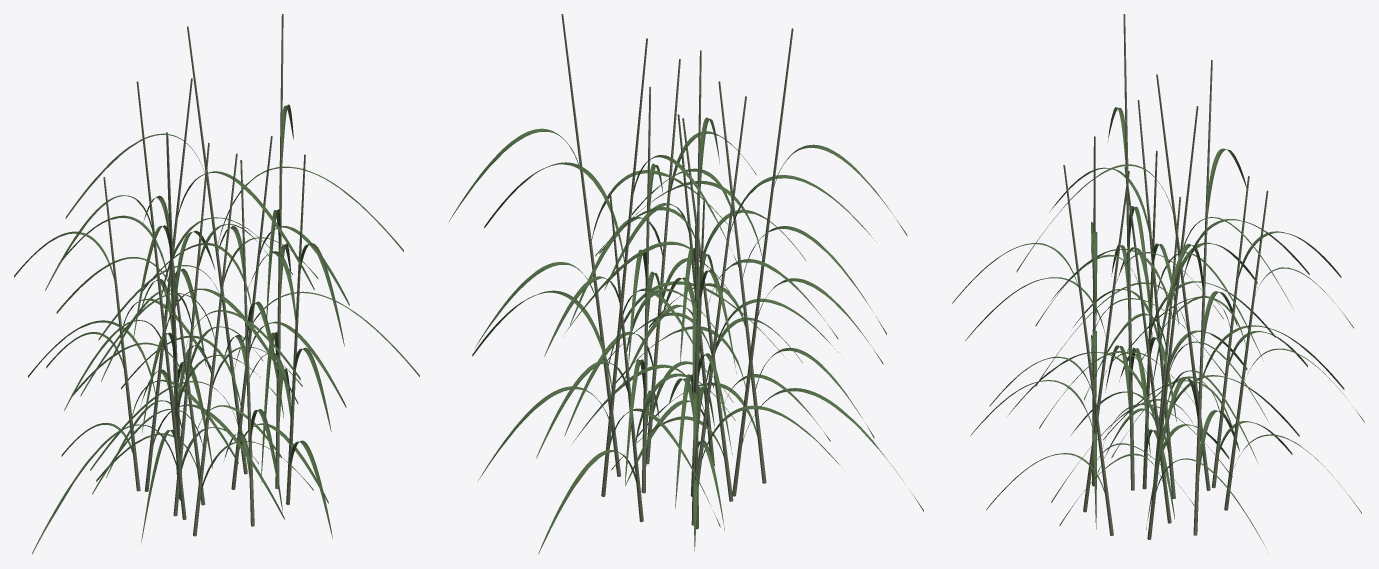
File: saccharum-2-lite.glb
The picture shows the model from 3 angles, left to right: view 1: azimuth 30°, elevation 25°; view 2: azimuth 150°, elevation 25°; view 3: azimuth 270°, elevation 25°; orthographic projection. The views are drawn at different scales.
Visible parts, largest first — view 1: grass-leaf, stem; view 2: grass-leaf, stem; view 3: grass-leaf, stem.
Part boxes in pixels (x1,y1,x2,y2): grass-leaf: (14,104,419,554); stem: (103,14,305,536); grass-leaf: (448,117,923,554); stem: (561,14,793,529); grass-leaf: (952,107,1364,548); stem: (1063,14,1268,539).
Bounding box in the file's own units: 0.853 × 0.9048 × 0.749.
2 materials, 2 textured.
